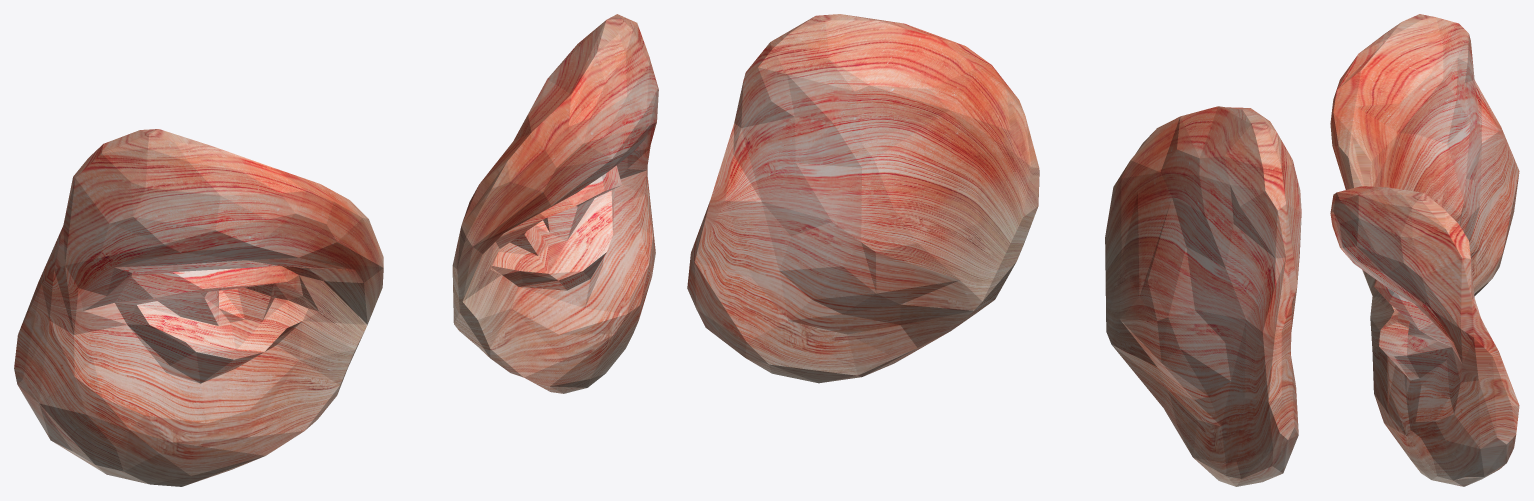
File: Orbicularis_Oculi.obj
3 renders of one model, left to right at view 1: azimuth 30°, elevation 25°; view 2: azimuth 150°, elevation 25°; view 3: azimuth 270°, elevation 25°, orthographic. The views are drawn at different scales.
Parts seen in each view (by area): view 1: Musculos_Cabeza_1:Obicularis_Oculi1; view 2: Musculos_Cabeza_1:Obicularis_Oculi1; view 3: Musculos_Cabeza_1:Obicularis_Oculi1.
Boxes of the visible parts, bbox=[...] form: Musculos_Cabeza_1:Obicularis_Oculi1: bbox=[14, 14, 658, 486]; Musculos_Cabeza_1:Obicularis_Oculi1: bbox=[687, 14, 1301, 486]; Musculos_Cabeza_1:Obicularis_Oculi1: bbox=[1330, 14, 1519, 486].
Size of the model in its own units: 0.5347 by 0.2969 by 0.1746.
1 material, 1 textured.
